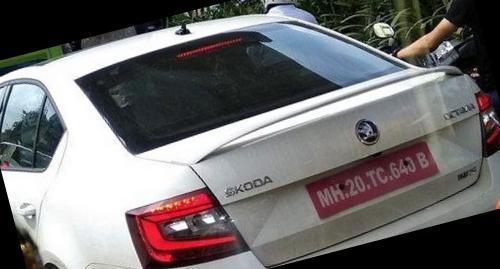plate: (293, 137, 462, 225)
